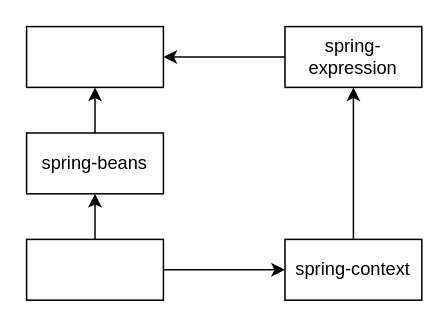
Some shapes in this 448 by 327 pixel diagram are drawn without their labels. Here are the shapes that lost their labels. From the top down, the centre of each, then its label:
point 94,56: spring-core
point 94,269: spring-aop
